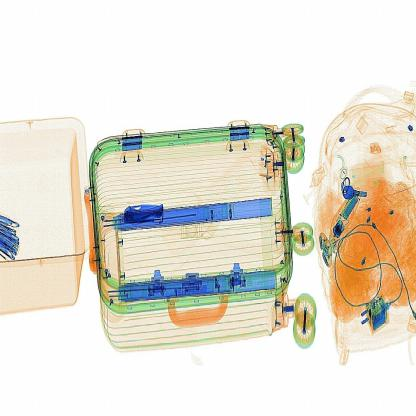knife: (121, 192, 173, 232)
